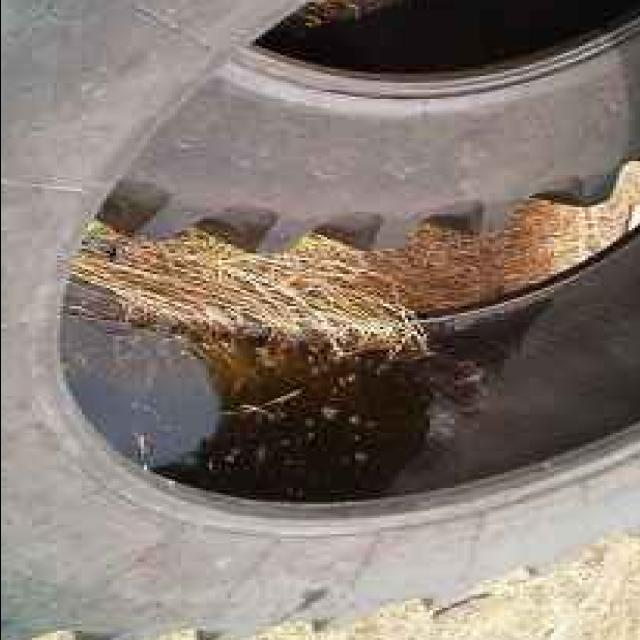Breeding Place: (53, 196, 576, 504)
